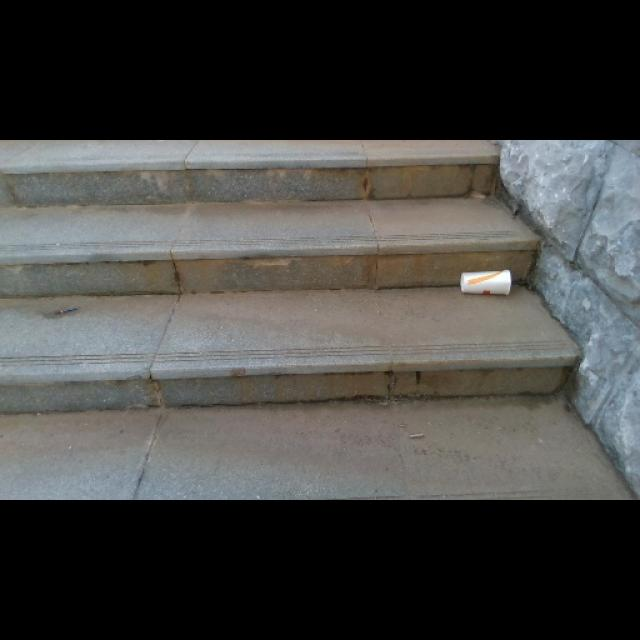Stairs: (0, 143, 582, 412)
